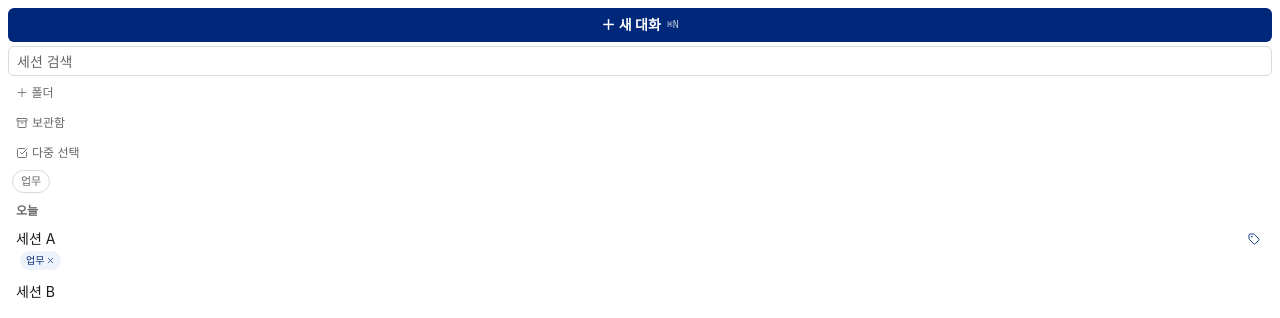
SessionList › 태그가 있는 세션은 사이드바에 태그 필터 칩을 렌더하고 클릭 시 해당 태그로 필터한다
expect the button "세션 A" is shown: met, box [16,228,1240,248]
expect the button "세션 B" is shown: met, box [16,282,1264,302]
Click the button "업무": x=31, y=181 [12,170,50,192]
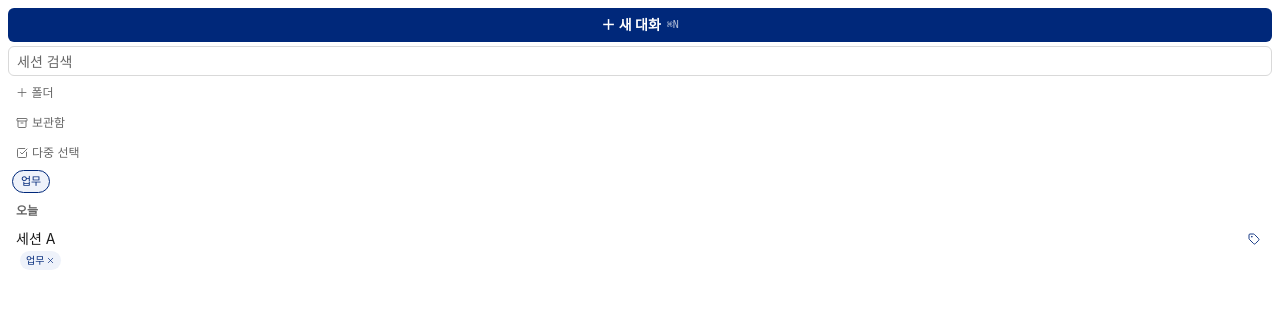
expect the button "세션 A" is shown: met, box [16,228,1240,248]
expect the button "세션 B" is gone: met
Click the button "업무": x=31, y=181 [12,170,50,192]
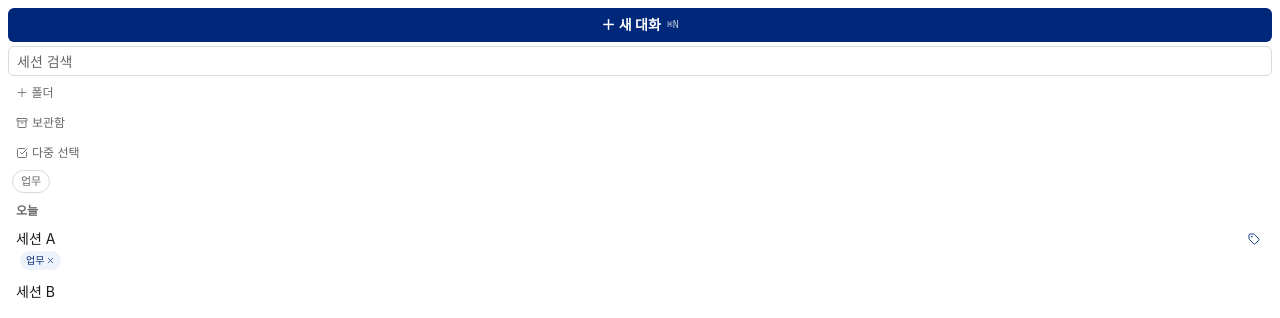
expect the button "세션 B" is shown: met, box [16,282,1264,302]
